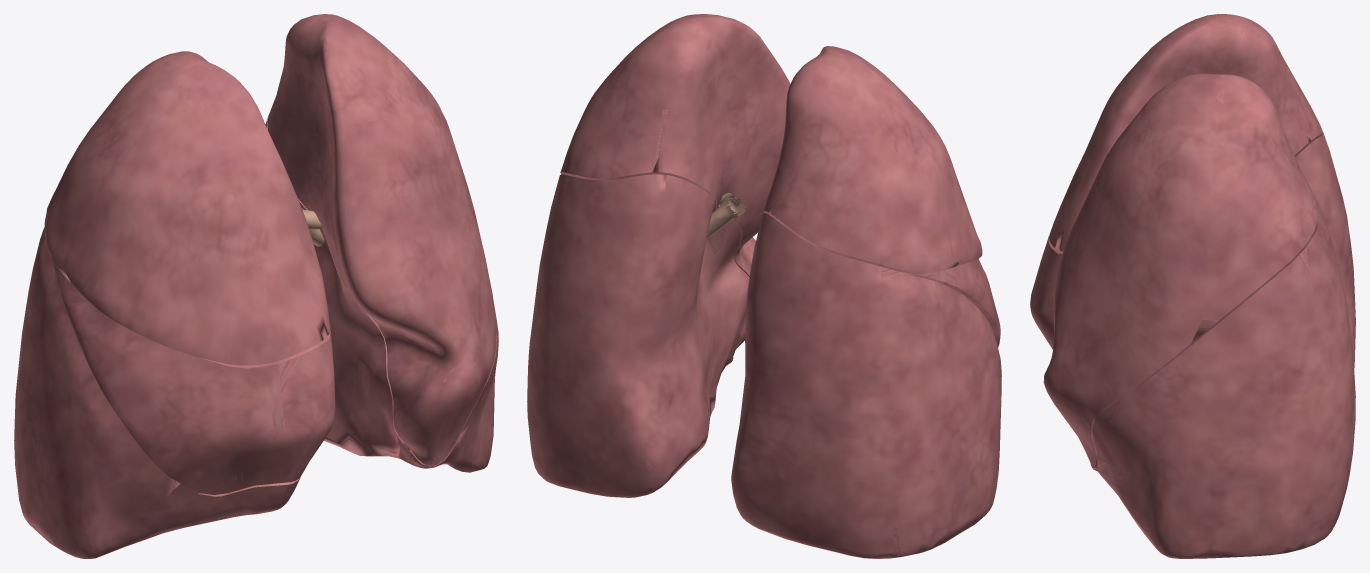
File: overview.glb
The picture shows the model from 3 angles, left to right: view 1: azimuth 30°, elevation 25°; view 2: azimuth 150°, elevation 25°; view 3: azimuth 270°, elevation 25°; orthographic projection. The views are drawn at different scales.
Visible parts, largest first — view 1: lungs; view 2: lungs; view 3: lungs.
Boxes of the visible parts, left/top/right/bottom form: lungs: left=14, top=14, right=498, bottom=558; lungs: left=527, top=14, right=1001, bottom=558; lungs: left=1030, top=14, right=1355, bottom=558.
Bounding box in the file's own units: 0.2286 × 0.2324 × 0.1623.
Materials: 6 (5 with a texture image).
